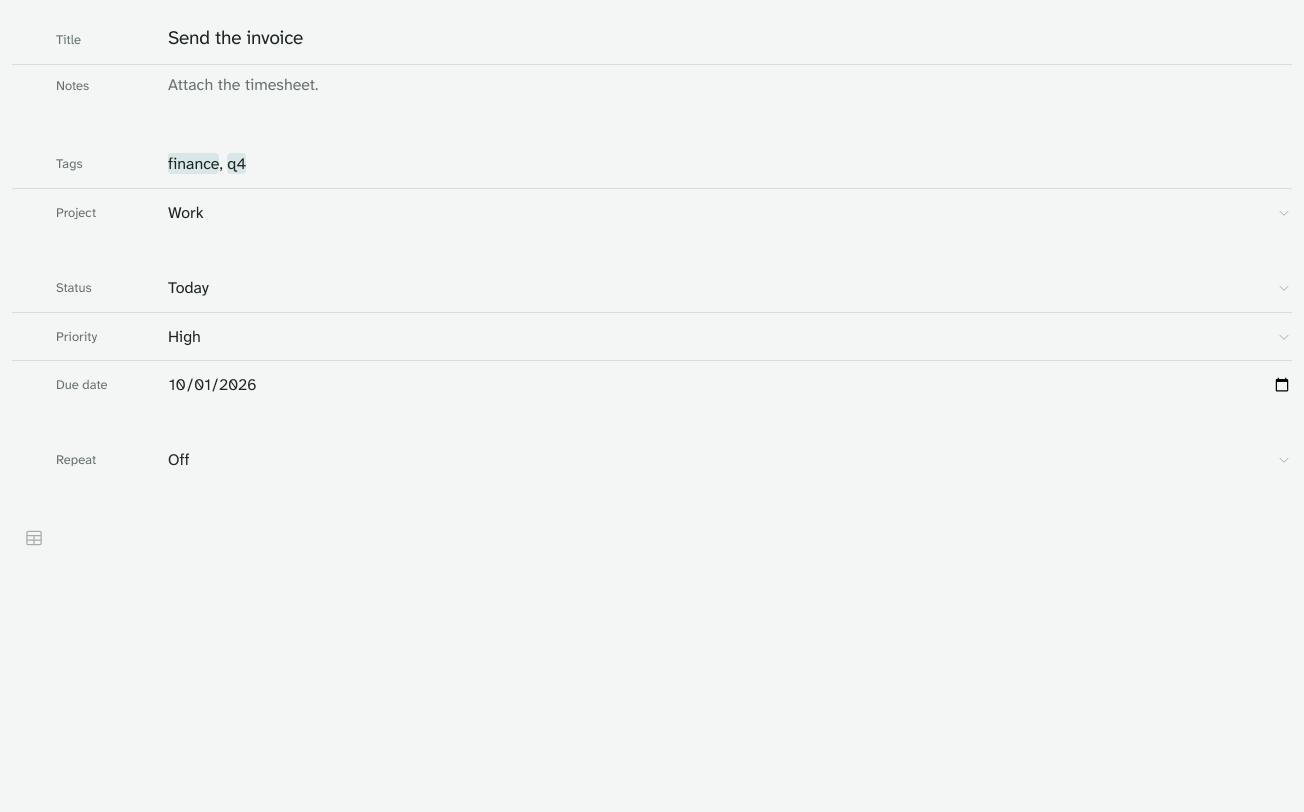
Test: TaskEditor › completes the tag after a comma without closing up the space
Step 1. Type ", urg" into the dropdown labelled "Tags" → {"x": 730, "y": 164}, box [168,152,1292,176]
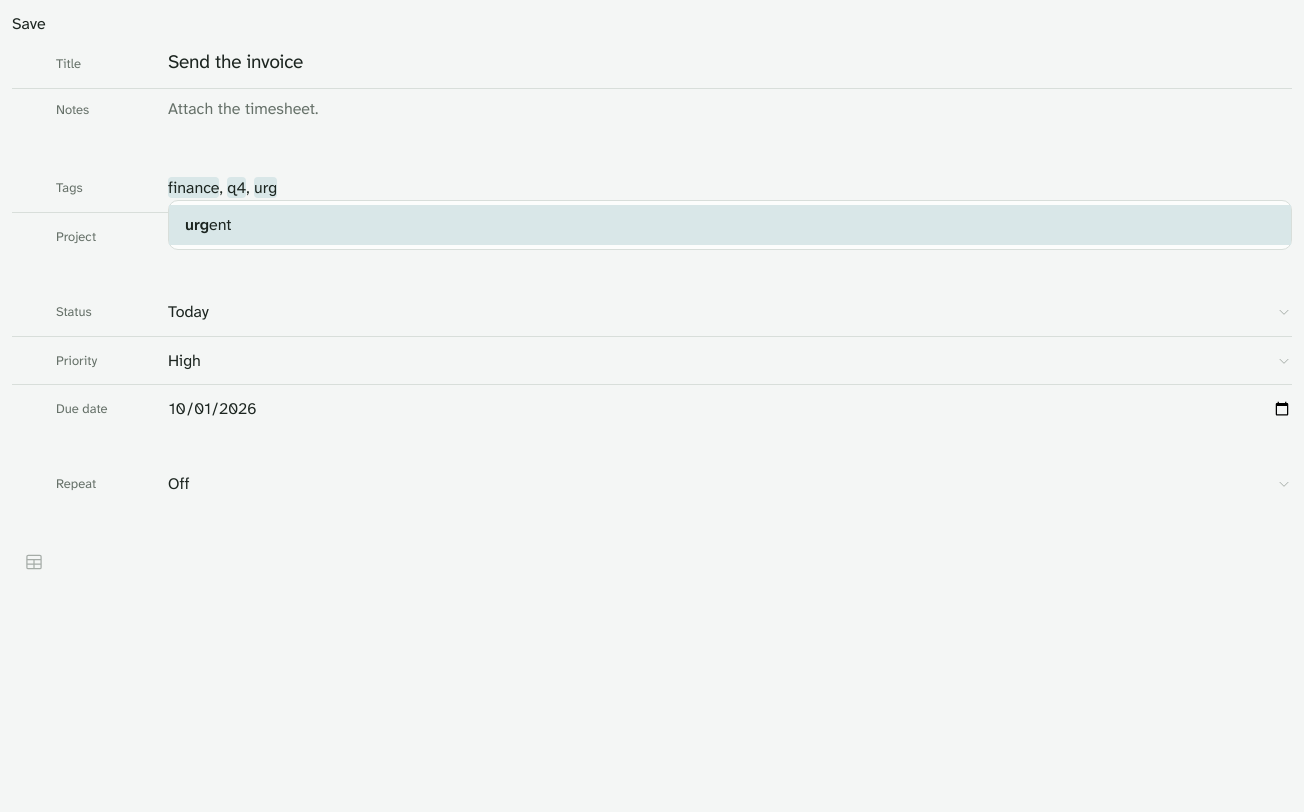
Step 2. Click the option "urgent" → {"x": 197, "y": 224}, box [169,205,1291,245]
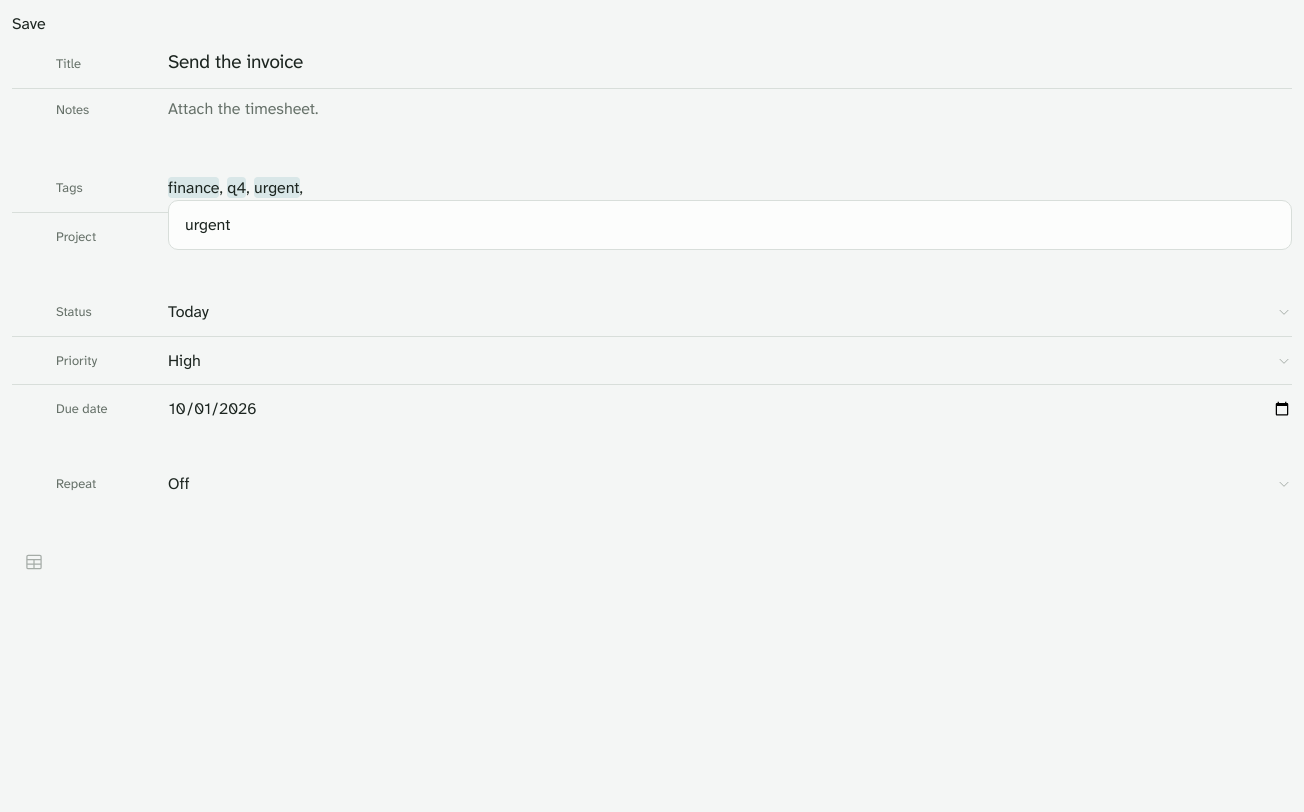
Now the dropdown labelled "Tags" holds "finance, q4, urgent, ", box [168,176,1292,200]
